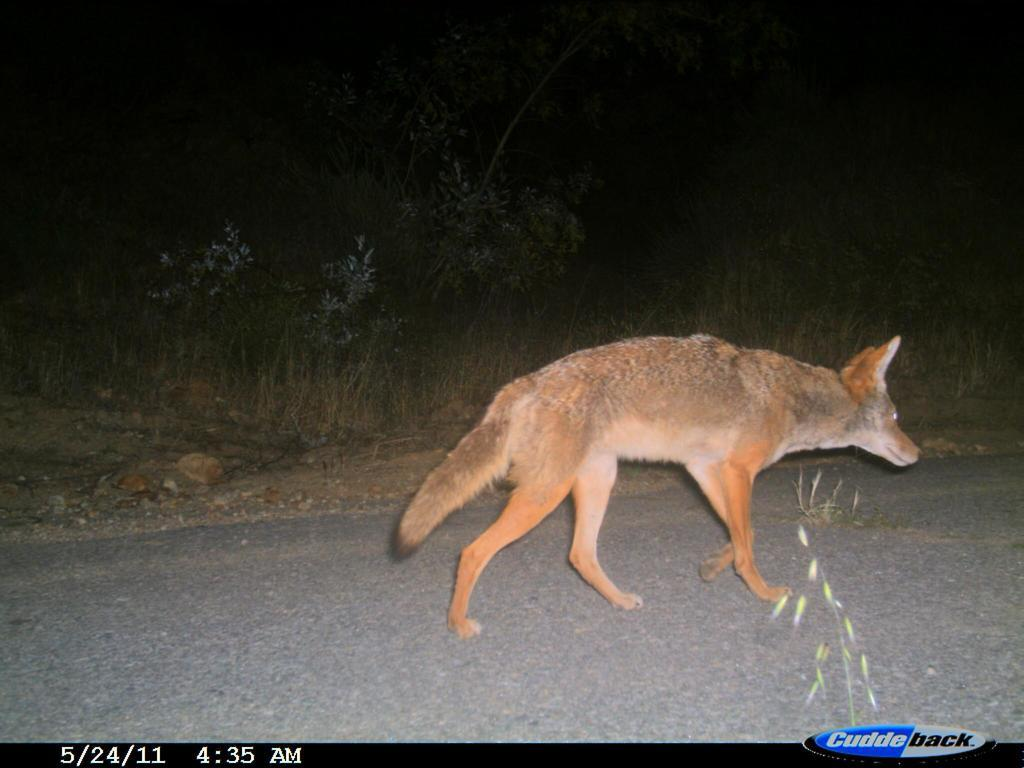coyote: (354, 321, 959, 647)
